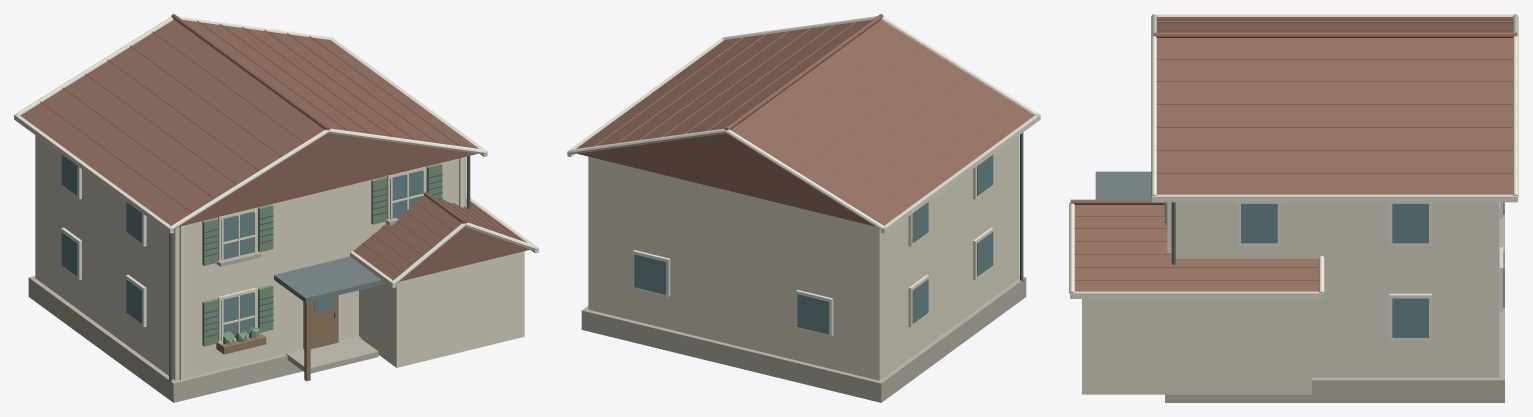
The picture shows the model from 3 angles, left to right: view 1: azimuth 30°, elevation 25°; view 2: azimuth 150°, elevation 25°; view 3: azimuth 270°, elevation 25°; orthographic projection. The views are drawn at different scales.
Bounding box in the file's own units: 11.69 × 8.12 × 11.62.
